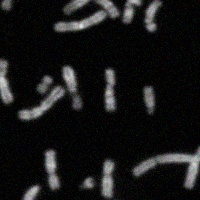chromosome: (132, 152, 200, 177), (17, 87, 64, 121), (53, 10, 107, 32), (62, 0, 119, 18), (61, 65, 82, 111), (184, 145, 200, 189), (44, 148, 60, 190), (144, 0, 163, 33), (0, 58, 13, 103), (103, 68, 116, 112), (122, 0, 142, 27), (7, 185, 40, 200), (102, 160, 114, 198), (142, 85, 155, 114), (36, 76, 52, 94), (79, 176, 95, 193), (0, 0, 17, 11)
